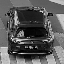mobil: (4, 5, 56, 56)
